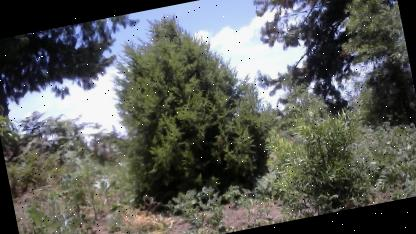tree: (89, 0, 283, 227)
